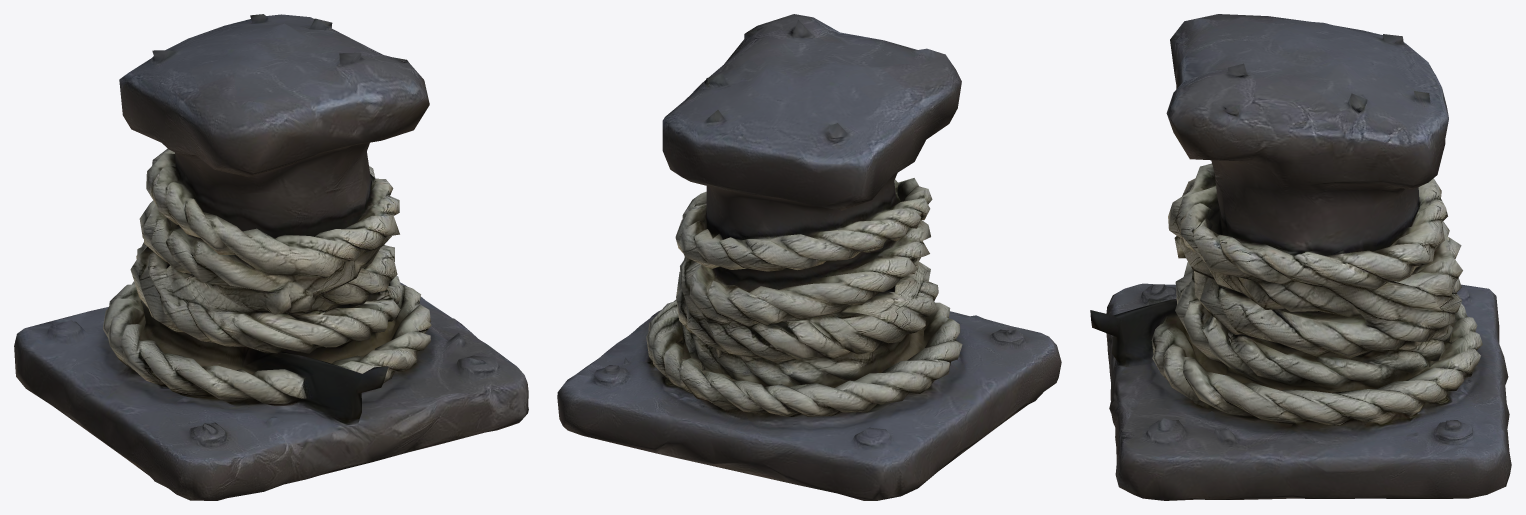
File: bollard_rope.glb
3 views of the same model, side by side, from view 1: azimuth 30°, elevation 25°; view 2: azimuth 150°, elevation 25°; view 3: azimuth 270°, elevation 25° (orthographic). The views are drawn at different scales.
Parts seen in each view (by area): view 1: tripo_node_518c4a2c-88a8-4679-8692-dae3c35fd3a3; view 2: tripo_node_518c4a2c-88a8-4679-8692-dae3c35fd3a3; view 3: tripo_node_518c4a2c-88a8-4679-8692-dae3c35fd3a3.
Boxes of the visible parts, x1,y1,x2,y2 form: tripo_node_518c4a2c-88a8-4679-8692-dae3c35fd3a3: (14, 14, 528, 500); tripo_node_518c4a2c-88a8-4679-8692-dae3c35fd3a3: (557, 14, 1061, 500); tripo_node_518c4a2c-88a8-4679-8692-dae3c35fd3a3: (1090, 14, 1511, 500).
Bounding box in the file's own units: 0.9814 × 0.9336 × 0.9649.
Materials: 1 (1 with a texture image).
